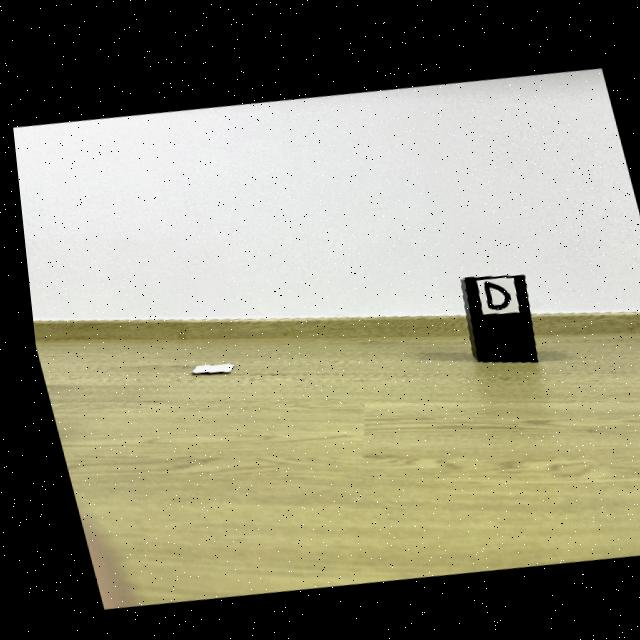D: (479, 276, 505, 305)
